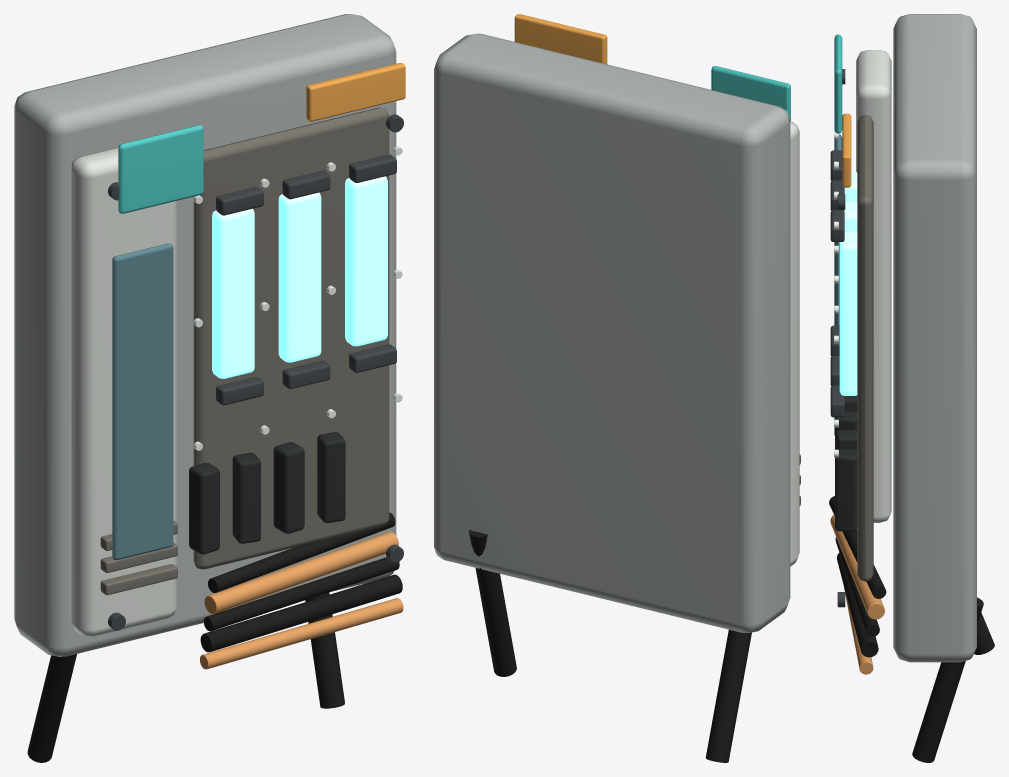
The model's file is hp_room_fuse_box.glb.
The picture shows the model from 3 angles, left to right: view 1: azimuth 30°, elevation 25°; view 2: azimuth 150°, elevation 25°; view 3: azimuth 270°, elevation 25°; orthographic projection. The views are drawn at different scales.
Parts seen in each view (by area): view 1: room_fuse_box_body_cabinet, room_fuse_box_inside_shadow, room_fuse_box_cover_hinge, room_fuse_box_cover_secondary_panel_art_color_block, room_fuse_box_fuse_cell_2, room_fuse_box_fuse_cell_1, room_fuse_box_fuse_cell_3, room_fuse_box_service_color_block_art_color_block, room_fuse_box_bottom_service_cable_bundle_02, room_fuse_box_bottom_service_cable_bundle_04, room_fuse_box_warning_label, room_fuse_box_bottom_service_cable_bundle_01 (+16 smaller); view 2: room_fuse_box_body_cabinet, room_fuse_box_cover_hinge, room_fuse_box_service_cable_left, room_fuse_box_service_cable_right, room_fuse_box_warning_label, room_fuse_box_service_color_block_art_color_block; view 3: room_fuse_box_body_cabinet, room_fuse_box_cover_hinge, room_fuse_box_inside_shadow, room_fuse_box_fuse_cell_3, room_fuse_box_service_cable_right, room_fuse_box_switch_4, room_fuse_box_bottom_service_cable_bundle_04, room_fuse_box_bottom_service_cable_bundle_02, room_fuse_box_service_color_block_art_color_block, room_fuse_box_warning_label, room_fuse_box_bottom_service_cable_bundle_03, room_fuse_box_bottom_service_cable_bundle_05 (+12 smaller).
Boxes of the visible parts, x1,y1,x2,y2 form: room_fuse_box_body_cabinet: [14, 14, 396, 656]; room_fuse_box_inside_shadow: [193, 107, 389, 569]; room_fuse_box_cover_hinge: [70, 147, 176, 636]; room_fuse_box_cover_secondary_panel_art_color_block: [112, 243, 173, 560]; room_fuse_box_fuse_cell_2: [278, 192, 321, 362]; room_fuse_box_fuse_cell_1: [212, 208, 254, 378]; room_fuse_box_fuse_cell_3: [345, 176, 387, 346]; room_fuse_box_service_color_block_art_color_block: [118, 125, 203, 213]; room_fuse_box_bottom_service_cable_bundle_02: [200, 574, 402, 652]; room_fuse_box_bottom_service_cable_bundle_04: [204, 532, 398, 614]; room_fuse_box_warning_label: [306, 63, 405, 121]; room_fuse_box_bottom_service_cable_bundle_01: [200, 598, 403, 669]; room_fuse_box_body_cabinet: [434, 33, 790, 632]; room_fuse_box_cover_hinge: [790, 121, 799, 566]; room_fuse_box_service_cable_left: [705, 629, 751, 762]; room_fuse_box_service_cable_right: [469, 530, 516, 676]; room_fuse_box_warning_label: [514, 14, 607, 64]; room_fuse_box_service_color_block_art_color_block: [711, 66, 790, 121]; room_fuse_box_body_cabinet: [893, 14, 976, 662]; room_fuse_box_cover_hinge: [856, 50, 891, 522]; room_fuse_box_inside_shadow: [857, 114, 873, 581]; room_fuse_box_fuse_cell_3: [839, 231, 857, 395]; room_fuse_box_service_cable_right: [912, 597, 983, 762]; room_fuse_box_switch_4: [835, 448, 857, 532]; room_fuse_box_bottom_service_cable_bundle_04: [830, 515, 884, 619]; room_fuse_box_bottom_service_cable_bundle_02: [837, 552, 878, 657]; room_fuse_box_service_color_block_art_color_block: [834, 34, 842, 133]; room_fuse_box_warning_label: [842, 113, 851, 187]; room_fuse_box_bottom_service_cable_bundle_03: [835, 537, 879, 636]; room_fuse_box_bottom_service_cable_bundle_05: [829, 496, 886, 598].
Size of the model in its own units: 0.58 by 1.08 by 0.2571.
